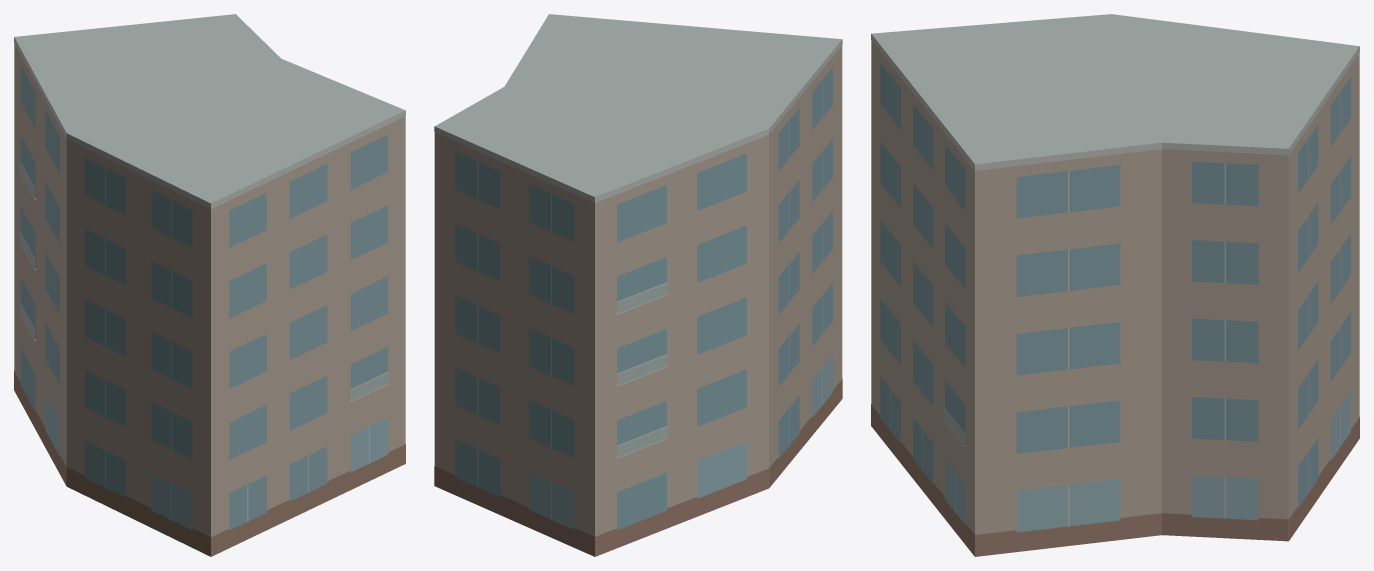
The model's file is survey-upis-32574365.glb.
The picture shows the model from 3 angles, left to right: view 1: azimuth 30°, elevation 25°; view 2: azimuth 150°, elevation 25°; view 3: azimuth 270°, elevation 25°; orthographic projection. The views are drawn at different scales.
Parts seen in each view (by area): view 1: survey-upis-32574365.tmp; view 2: survey-upis-32574365.tmp; view 3: survey-upis-32574365.tmp.
Part boxes in pixels (x1,y1,x2,y2): survey-upis-32574365.tmp: (14, 14, 405, 556); survey-upis-32574365.tmp: (434, 14, 842, 556); survey-upis-32574365.tmp: (871, 14, 1359, 556).
Bounding box in the file's own units: 12.18 × 14.8 × 16.71.
